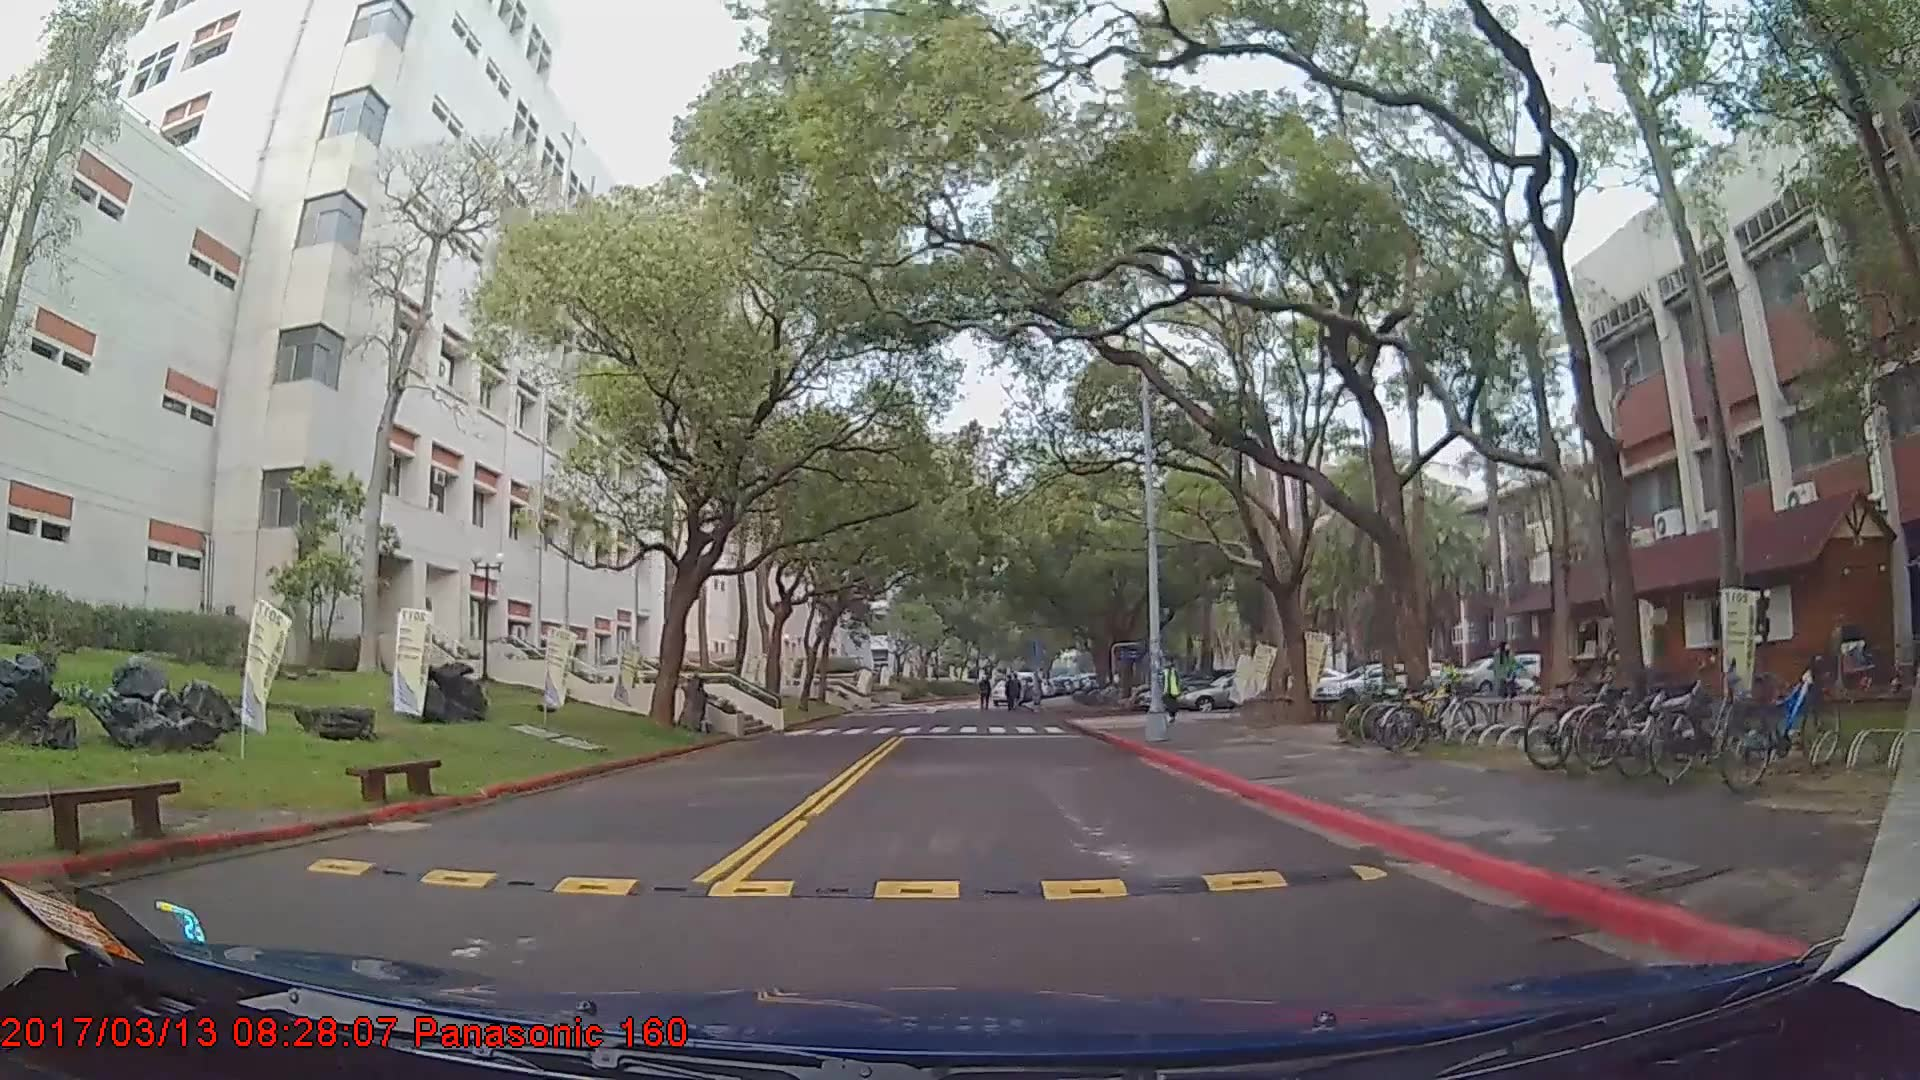vehicle: (1178, 670, 1288, 709)
